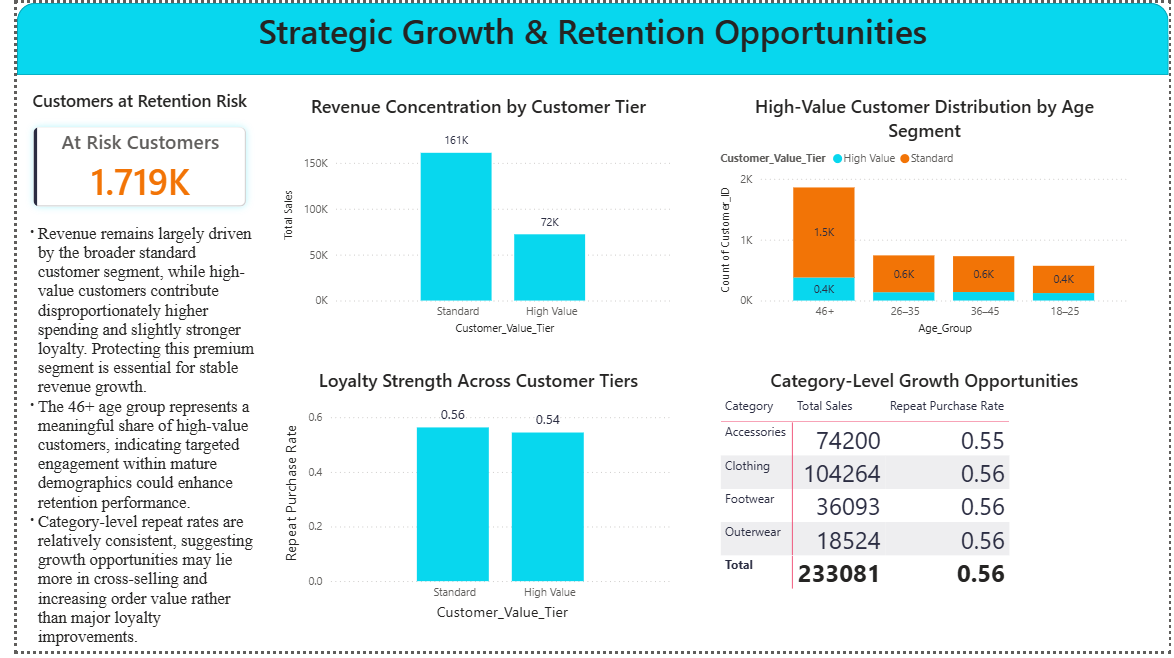

What the dashboard file says about the page in this screenshot:
{"tool":"powerbi","page":{"name":"Strategic Growth & Retention Opportunities","canvas":[1280,720],"ordinal":3},"visuals":[{"type":"shape","box":[0,0,1279.5,80.3],"z":0},{"type":"clusteredColumnChart","title":"Revenue Concentration by Customer Tier","fields":{"Category":["Customer_Summary.Customer_Value_Tier"],"Y":["Calculated_Measures.Total Sales"]},"box":[292.2,95.4,442.1,278.6],"z":1000},{"type":"clusteredColumnChart","title":"Loyalty Strength Across Customer Tiers","fields":{"Category":["Customer_Summary.Customer_Value_Tier"],"Y":["Calculated_Measures.Repeat Purchase Rate"]},"box":[292.2,399.8,442.1,290.7],"z":2000},{"type":"columnChart","title":"High-Value Customer Distribution by Age Segment","fields":{"Category":["customer_shopping_behavior.Age_Group"],"Y":["CountNonNull(customer_shopping_behavior.Customer_ID)"],"Series":["Customer_Summary.Customer_Value_Tier"]},"box":[776.8,95.4,463.3,278.6],"z":3000},{"type":"cardVisual","title":"Customers at Retention Risk","fields":{"Data":["Calculated_Measures.At Risk Customers"]},"box":[0,95.4,272.6,143.8],"z":4000},{"type":"pivotTable","title":"Category-Level Growth Opportunities","fields":{"Rows":["customer_shopping_behavior.Category"],"Values":["Calculated_Measures.Total Sales","Calculated_Measures.Repeat Purchase Rate"]},"box":[776.8,399.8,463.3,290.7],"z":5000},{"type":"textbox","box":[0,239.2,272.6,480],"z":6000},{"type":"textbox","box":[240.8,0,799.5,80.3],"z":7000}]}

Visuals, with their boxes in screenshot pixels (x1, y1, x2, y2), scaled from the page's 1280x720 canvas onto the 1174x658 screenshot:
shape: left=0, top=0, right=1173, bottom=73
"Revenue Concentration by Customer Tier" clusteredColumnChart: left=268, top=87, right=673, bottom=342
"Loyalty Strength Across Customer Tiers" clusteredColumnChart: left=268, top=365, right=673, bottom=631
"High-Value Customer Distribution by Age Segment" columnChart: left=712, top=87, right=1137, bottom=342
"Customers at Retention Risk" cardVisual: left=0, top=87, right=250, bottom=219
"Category-Level Growth Opportunities" pivotTable: left=712, top=365, right=1137, bottom=631
textbox: left=0, top=219, right=250, bottom=657
textbox: left=221, top=0, right=954, bottom=73
